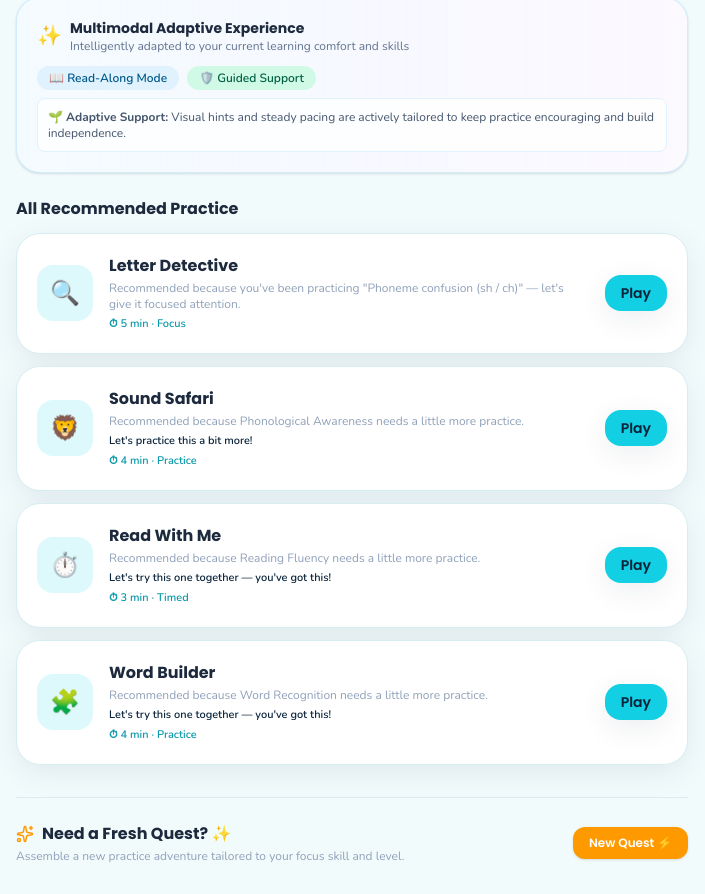
Scenario: Step 18: Intelligent Learning Content Generation + Curated Content Expansion › 24. MyPractice displays GeneratedContentCard when quest is assembled
(page scrolled)
What coordinates should you click on to do the following:
click the button with test id "assemble-quest-btn"
I would click on:
 (630, 842)
Its box is [573,826,688,858].
(page scrolled)
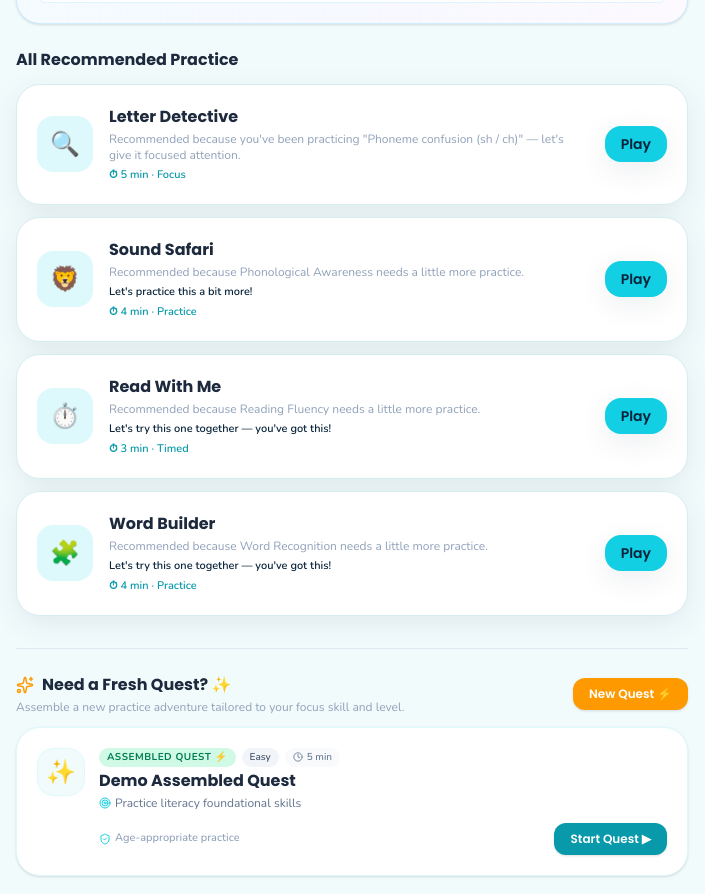
Expected: the button with test id "play-quest-btn" is shown, [554,822,667,854]
